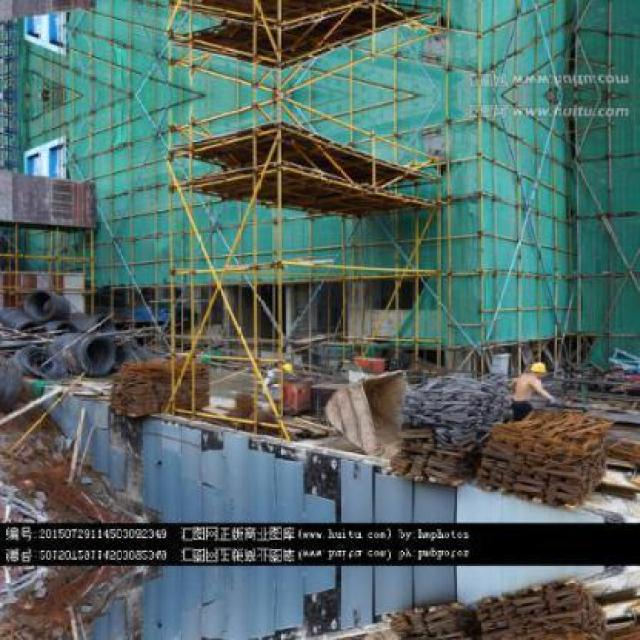helmet: (532, 362, 546, 377), (282, 362, 296, 373)
